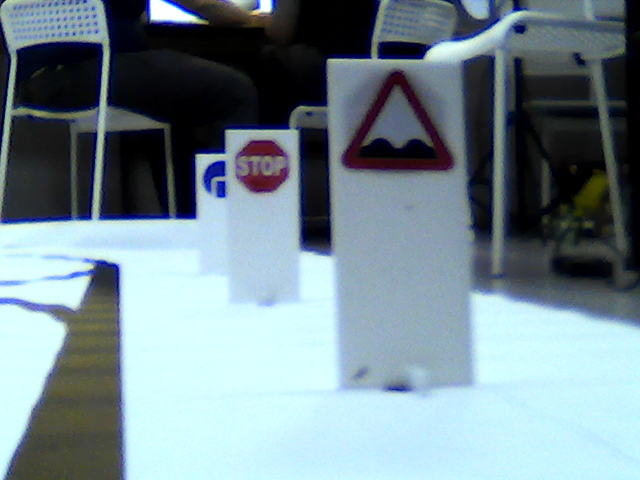Nerov: (344, 73, 452, 173)
Stop: (236, 139, 290, 192)
